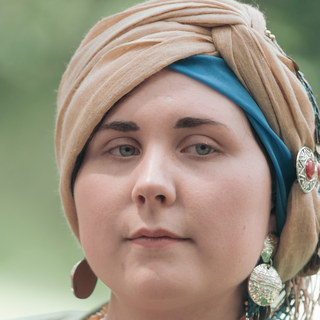eye: (179, 138, 227, 163), (100, 139, 145, 163)
